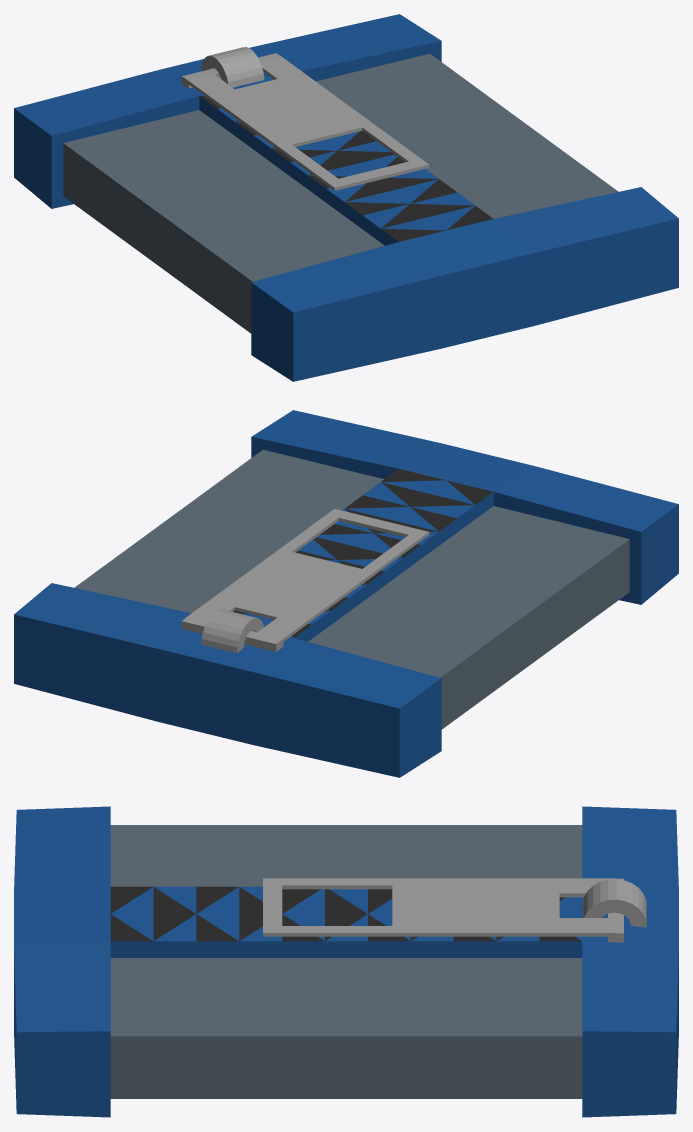
Rendered from Zip_S.fbx.
The picture shows the model from 3 angles, top to bottom: view 1: azimuth 30°, elevation 25°; view 2: azimuth 150°, elevation 25°; view 3: azimuth 270°, elevation 25°; orthographic projection. The views are drawn at different scales.
Parts seen in each view (by area): view 1: Zip_S; view 2: Zip_S; view 3: Zip_S.
Boxes of the visible parts, box(x1,y1,x2,y2) form: Zip_S: box(14, 14, 678, 381); Zip_S: box(14, 410, 678, 777); Zip_S: box(14, 806, 678, 1117).
Size of the model in its own units: 40 by 10 by 50.
